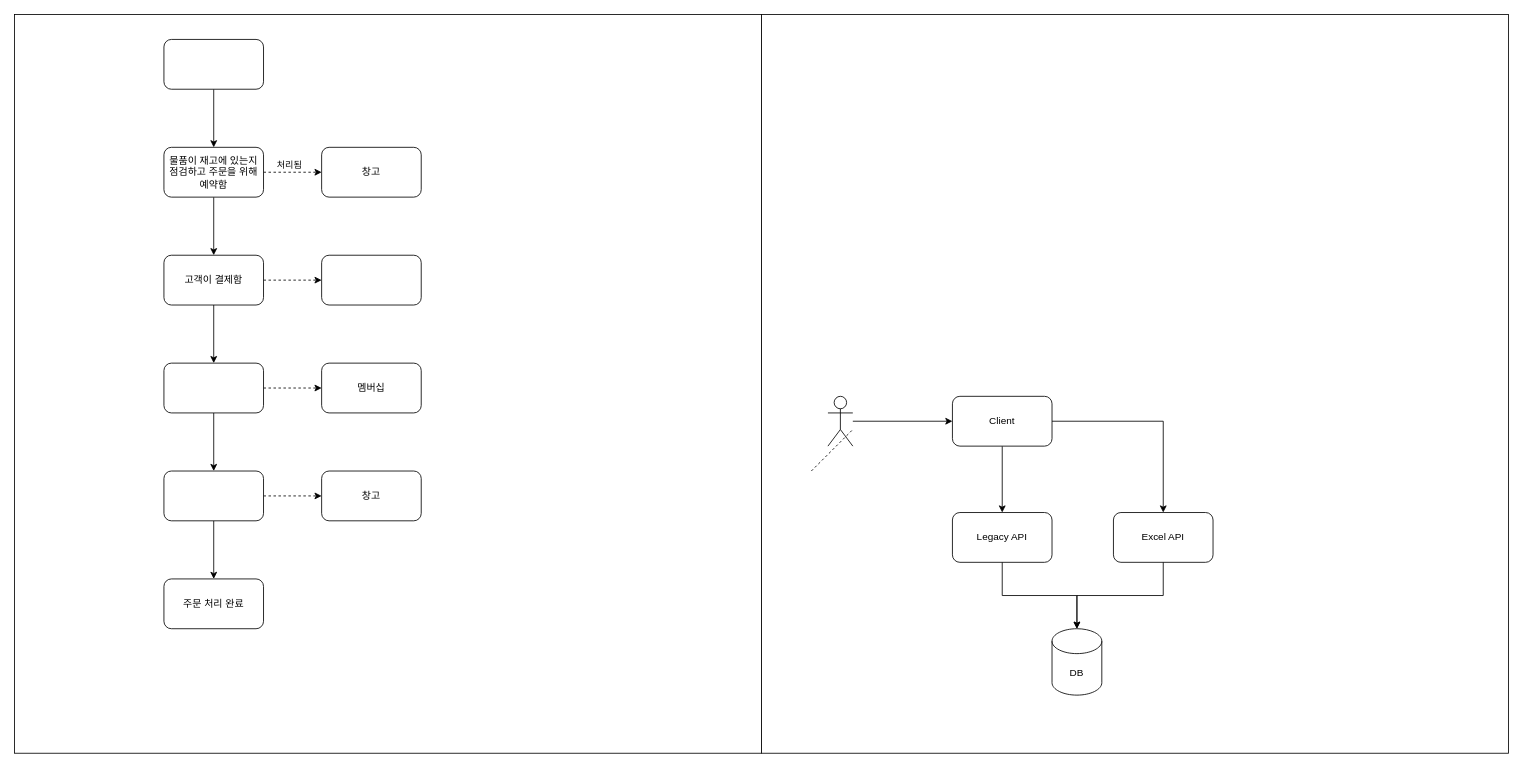
Image size: 1523x768. Some labels were removed from this diagram. The shapes that lost their labels are listed below. From the top down, each one's box as (x1, y1, x2, y2) in pixels, then its label:
(163, 39, 264, 89): 주문 처리 시작
(321, 254, 421, 305): 결제 게이트웨이
(163, 362, 264, 413): 고객에게 포인트를 부여함
(827, 395, 853, 446): Actor
(163, 470, 264, 521): 주문을 포장하고 발송함
